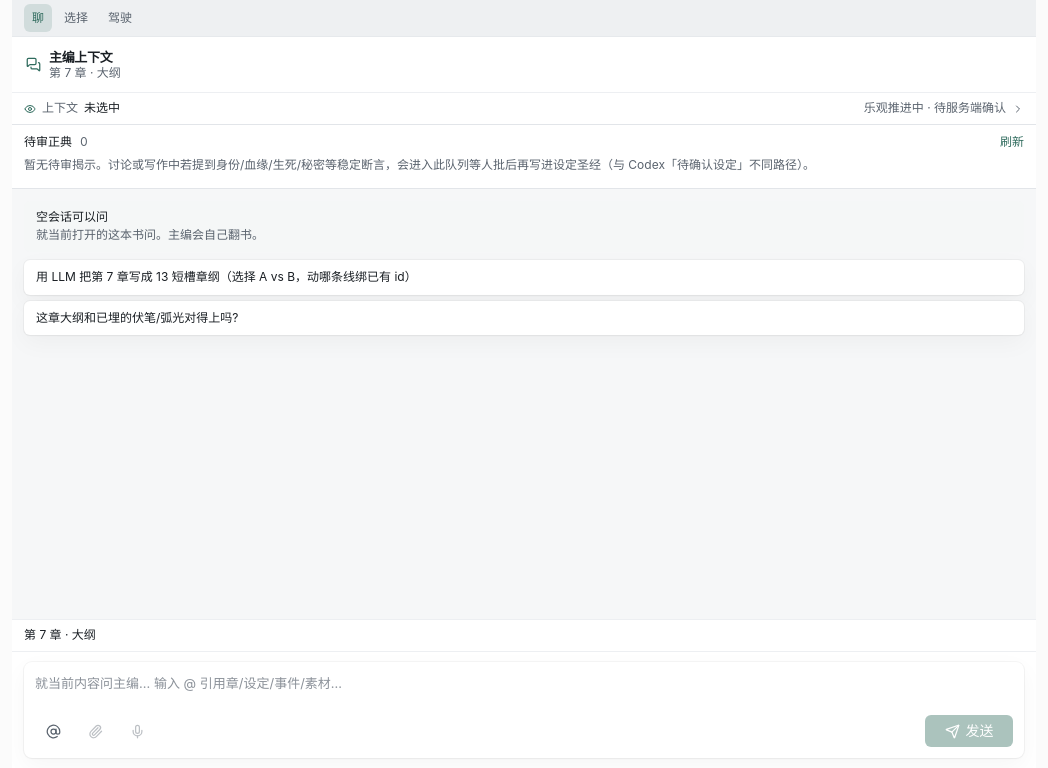
Test: ChiefDock UI › 主编审批超时显示已过期，不误报已拒绝
The width and height of the screenshot is (1048, 768).
Type "请登记这个设定" into the text box with placeholder "就当前内容问主编… 输入 @ 引用章/设定/事件/素材…" at (524, 689), box [35,671,1013,707]
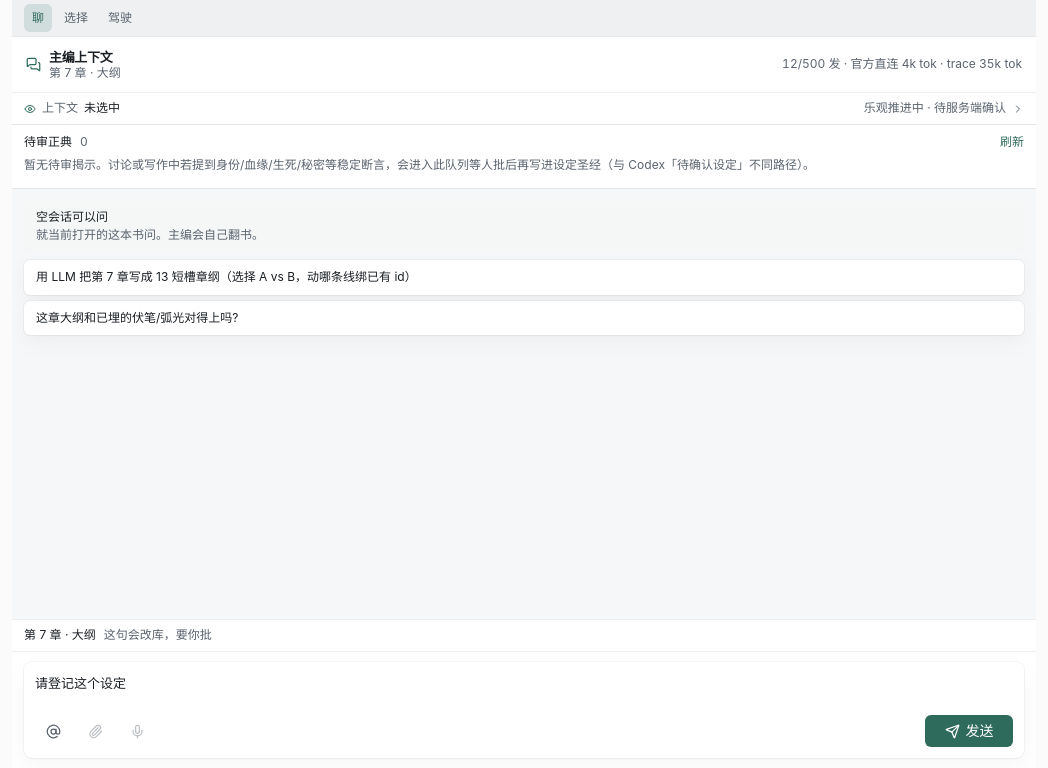
Click the button "发送" at (969, 731), box [925,715,1013,747]
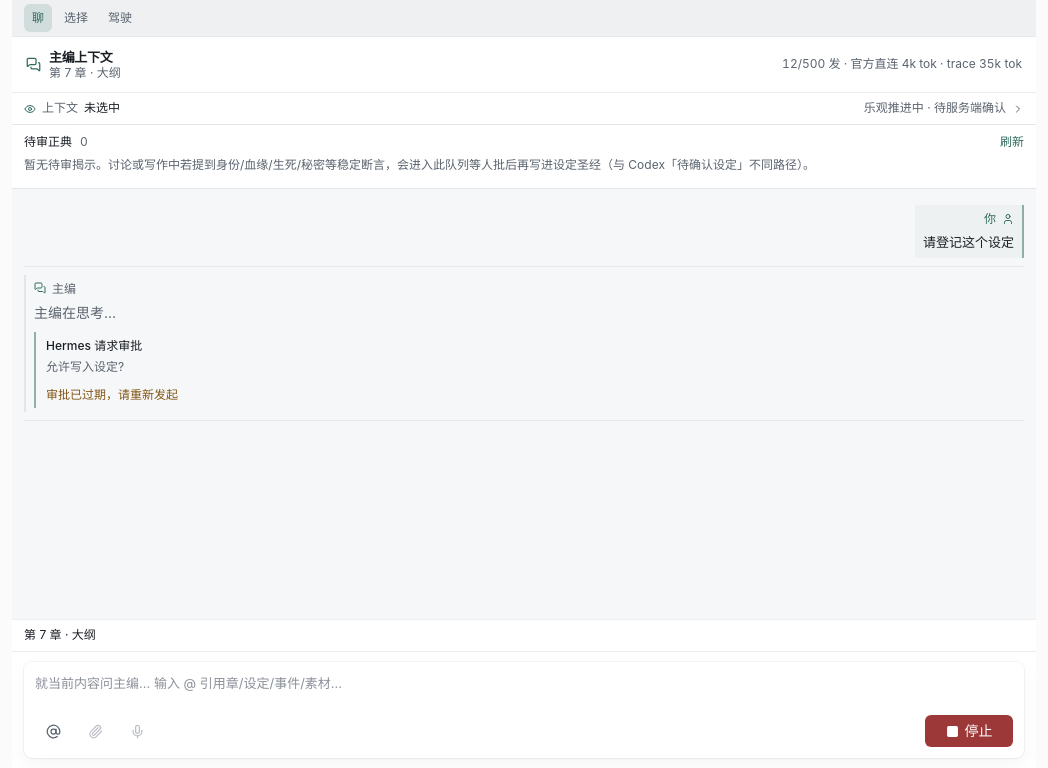
Expected: the text "允许写入设定?" is shown, [46,359,124,374]
Expected: the text "审批已过期，请重新发起" is shown, [46,385,178,404]
